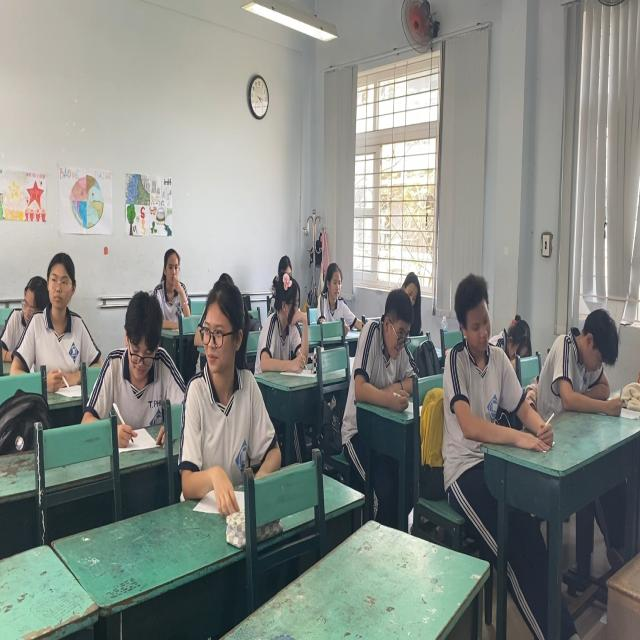cheating: (188, 268, 262, 488), (252, 257, 312, 370)
not_cheating: (436, 268, 514, 453), (25, 243, 101, 377), (111, 270, 172, 432), (354, 285, 424, 395), (546, 309, 620, 409), (159, 250, 194, 322), (316, 264, 356, 319)
